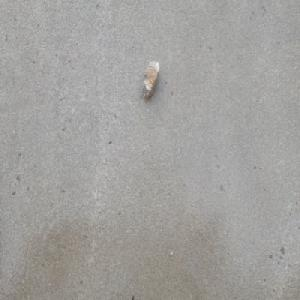Rock: (141, 59, 160, 102)
